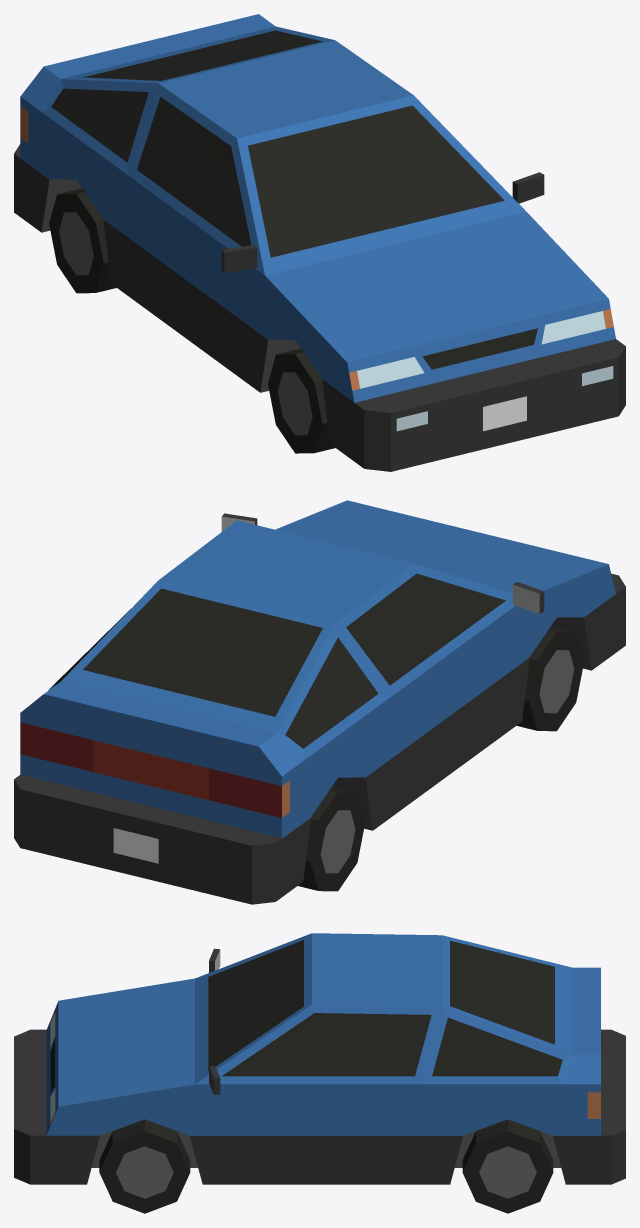
File: Veh_Coupe_01_Blue.glb
The picture shows the model from 3 angles, top to bottom: view 1: azimuth 30°, elevation 25°; view 2: azimuth 150°, elevation 25°; view 3: azimuth 270°, elevation 25°; orthographic projection. The views are drawn at different scales.
Parts seen in each view (by area): view 1: Coupe_01_Blue, Wheel_FR, Wheel_RR; view 2: Coupe_01_Blue, Wheel_RR, Wheel_FR; view 3: Coupe_01_Blue, Wheel_RL, Wheel_FL.
Part boxes in pixels (bbox=[...]): Coupe_01_Blue: bbox=[14, 14, 625, 471]; Wheel_FR: bbox=[268, 348, 334, 453]; Wheel_RR: bbox=[49, 188, 116, 293]; Coupe_01_Blue: bbox=[14, 500, 625, 904]; Wheel_RR: bbox=[298, 786, 365, 891]; Wheel_FR: bbox=[516, 626, 584, 731]; Coupe_01_Blue: bbox=[14, 933, 625, 1184]; Wheel_RL: bbox=[462, 1119, 553, 1213]; Wheel_FL: bbox=[99, 1119, 190, 1213].
Size of the model in its own units: 1.18 by 0.8117 by 2.35.
1 material, 1 textured.
